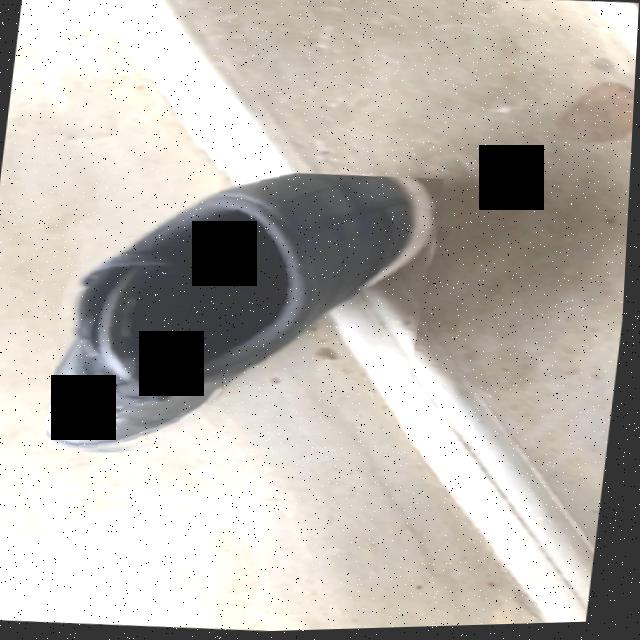shoe: (50, 175, 439, 451)
